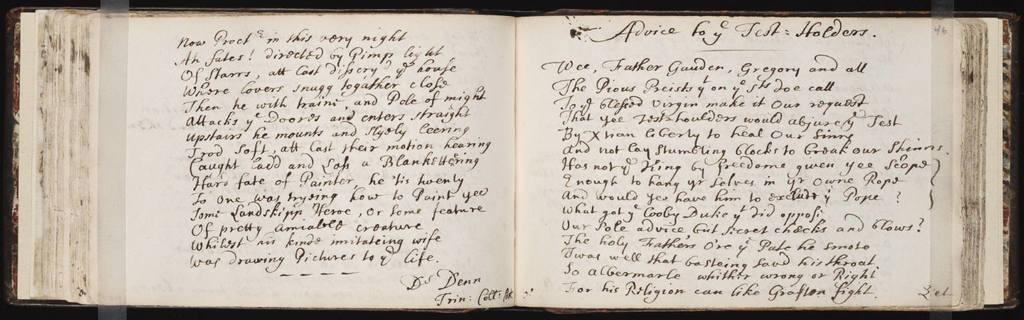book: (6, 7, 1008, 315)
